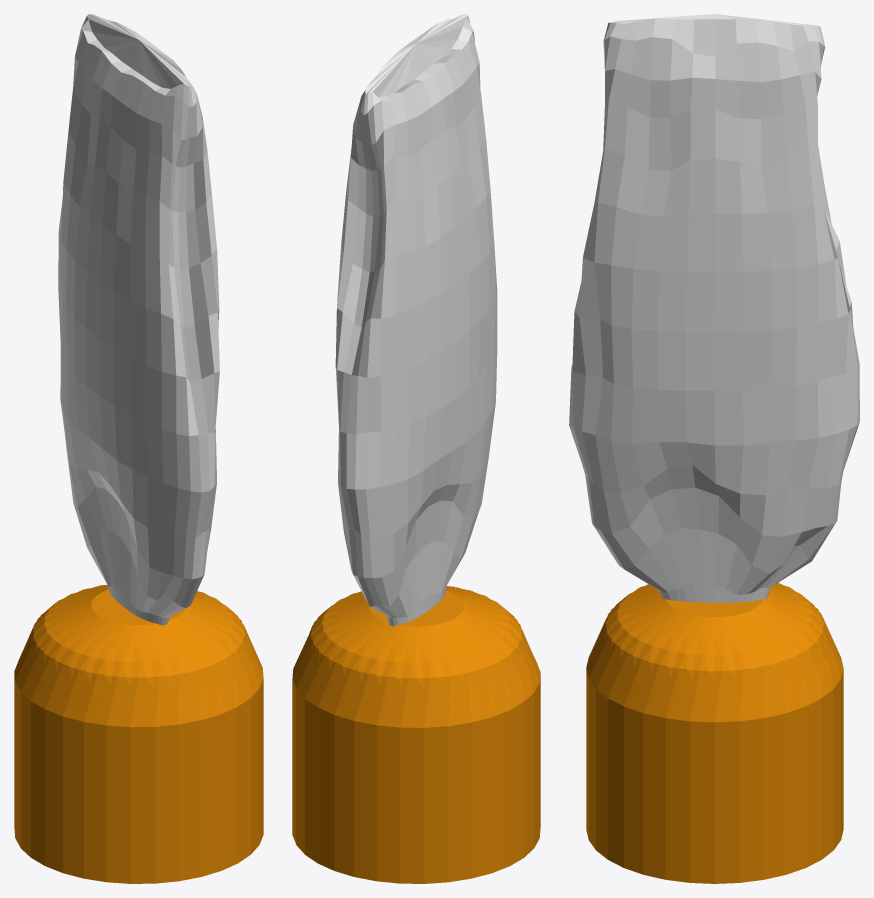
File: mask.fbx
3 views of the same model, side by side, from view 1: azimuth 30°, elevation 25°; view 2: azimuth 150°, elevation 25°; view 3: azimuth 270°, elevation 25° (orthographic). The views are drawn at different scales.
Parts seen in each view (by area): view 1: Cylinder.001, Cylinder; view 2: Cylinder.001, Cylinder; view 3: Cylinder.001, Cylinder.
Part boxes in pixels (x1,y1,x2,y2): Cylinder.001: (58, 14, 219, 625); Cylinder: (14, 585, 263, 883); Cylinder.001: (335, 14, 497, 626); Cylinder: (292, 586, 540, 883); Cylinder.001: (569, 14, 859, 602); Cylinder: (586, 582, 843, 883).
Bounding box in the file's own units: 200 × 699 × 226.
